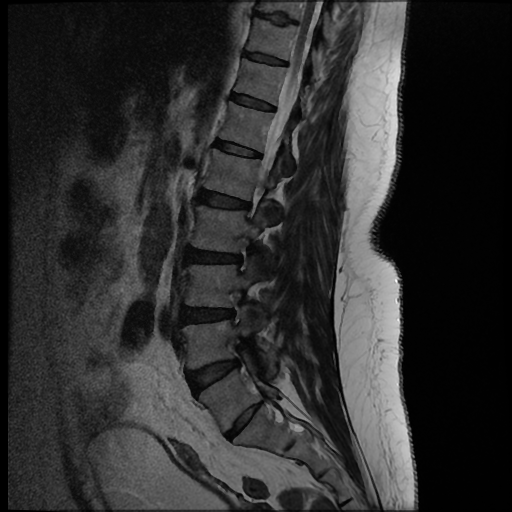RFS1: (217, 281, 250, 329)
